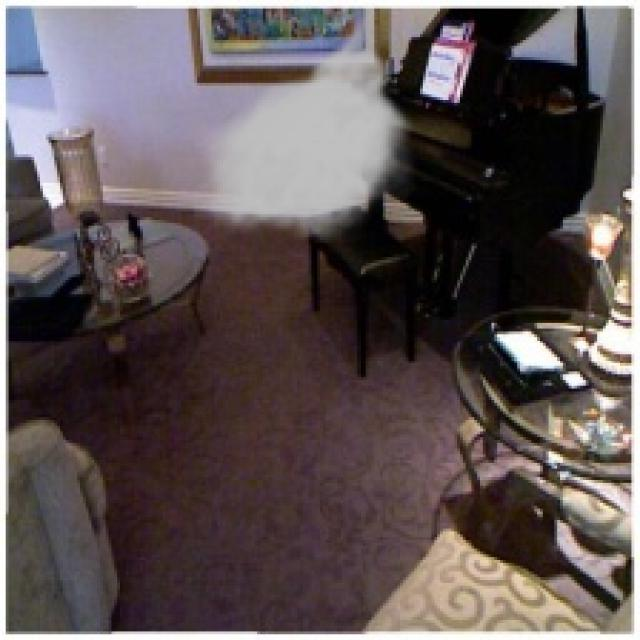smoke: (192, 3, 417, 243)
